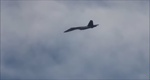maybay_muctieu: (63, 20, 97, 35)
